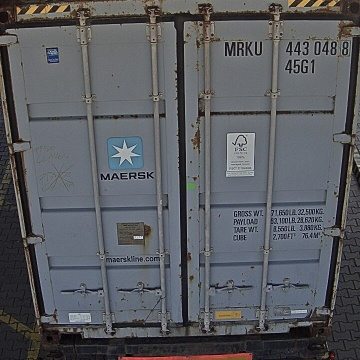serial_id: (225, 40, 351, 55)
